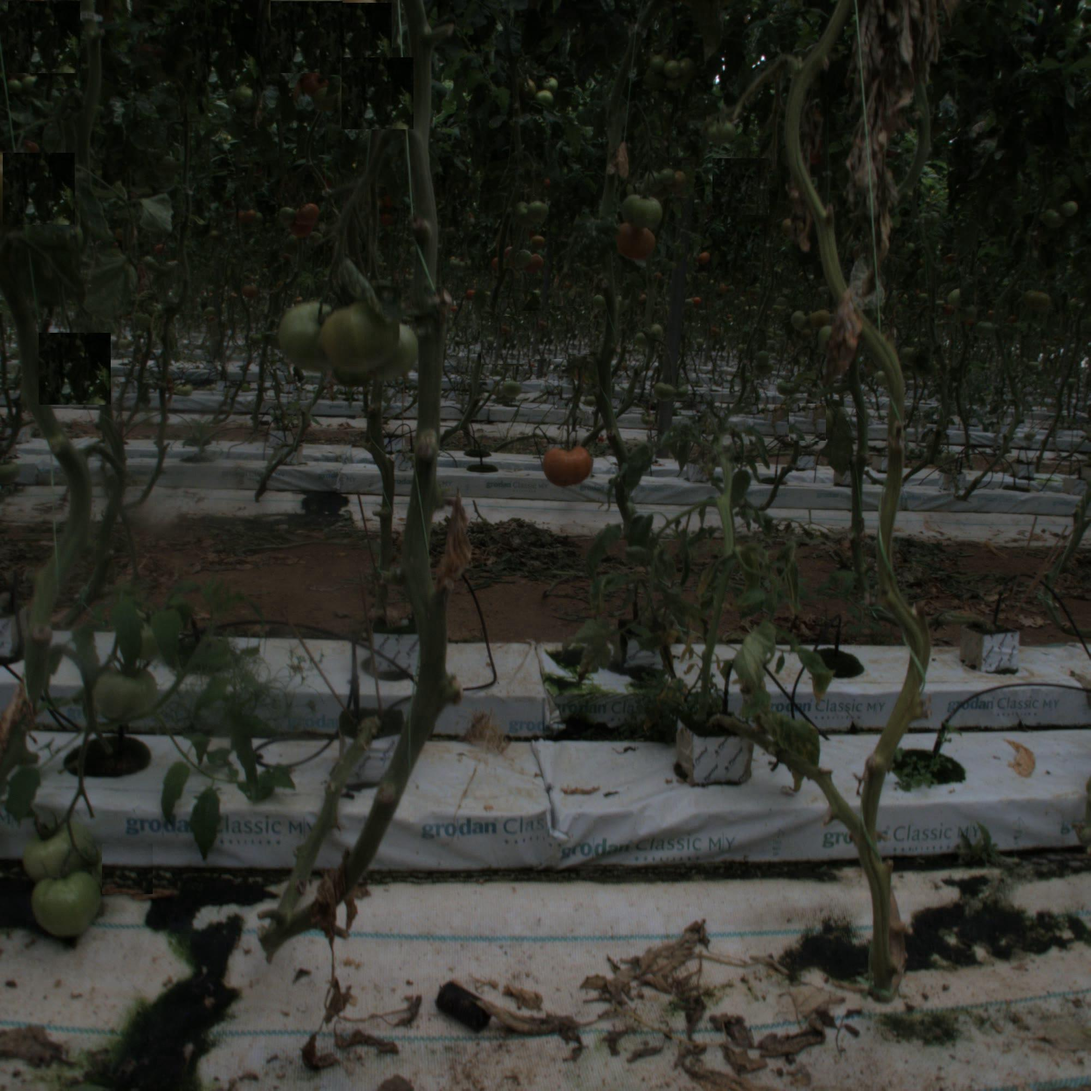fully-ripe: (542, 437, 592, 488), (617, 225, 656, 265)
unripe: (20, 816, 101, 897), (279, 301, 355, 376), (318, 301, 393, 376), (92, 660, 158, 726), (32, 869, 97, 934), (622, 190, 663, 232)
